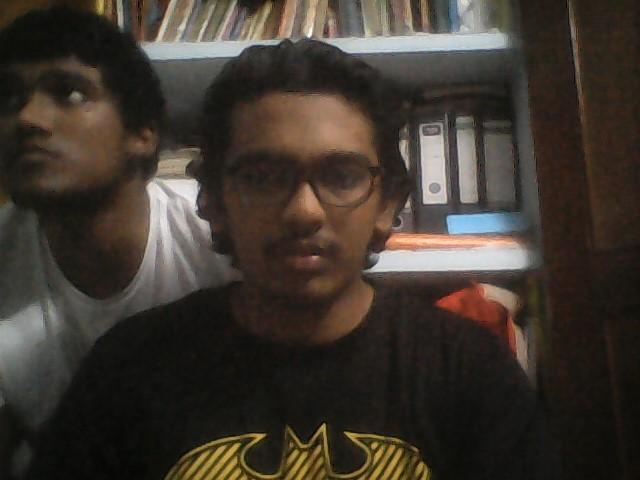person: (132, 40, 493, 431), (1, 7, 188, 334)
